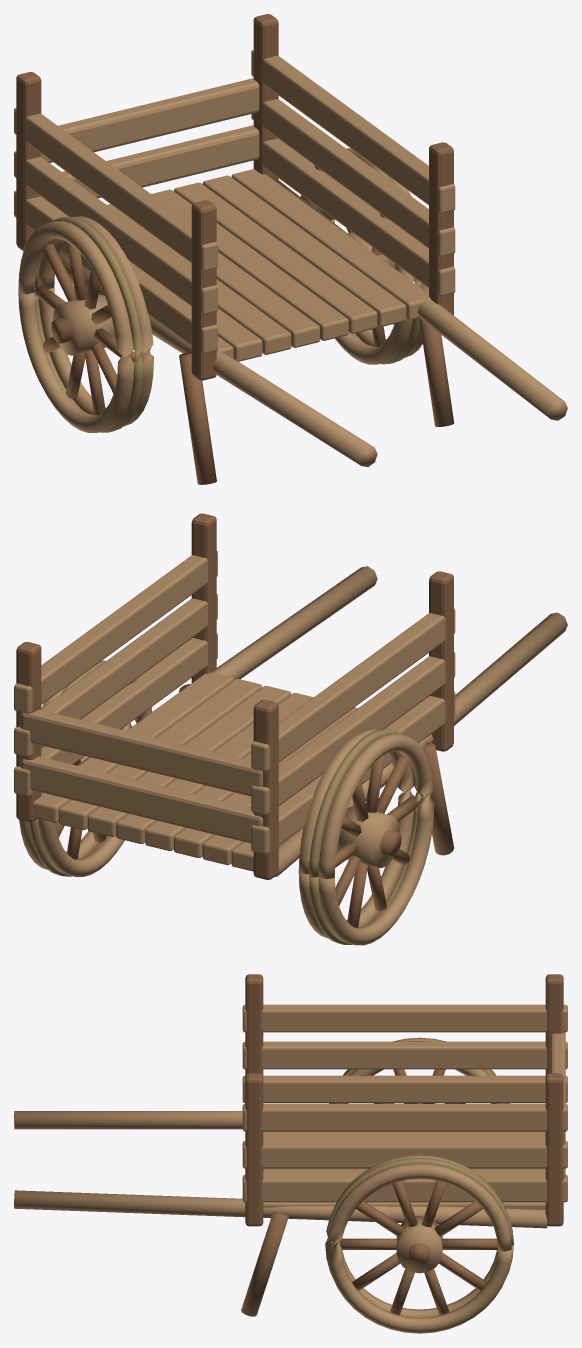
File: cargo-handcart.glb
3 renders of one model, top to bottom at view 1: azimuth 30°, elevation 25°; view 2: azimuth 150°, elevation 25°; view 3: azimuth 270°, elevation 25°, orthographic. The views are drawn at different scales.
Parts seen in each view (by area): view 1: cargo-handcart__woodlight, cargo-handcart__wood, cargo-handcart__bronze; view 2: cargo-handcart__woodlight, cargo-handcart__wood, cargo-handcart__bronze; view 3: cargo-handcart__woodlight, cargo-handcart__wood, cargo-handcart__bronze.
Part boxes in pixels (<box>): cargo-handcart__woodlight: <box>14,50,567,466</box>; cargo-handcart__wood: <box>16,14,454,484</box>; cargo-handcart__bronze: <box>34,148,421,432</box>; cargo-handcart__woodlight: <box>14,550,567,945</box>; cargo-handcart__wood: <box>16,513,454,927</box>; cargo-handcart__bronze: <box>29,660,422,944</box>; cargo-handcart__woodlight: <box>14,1004,567,1333</box>; cargo-handcart__wood: <box>241,974,563,1316</box>; cargo-handcart__bronze: <box>325,1040,513,1274</box>.
Bounding box in the file's own units: 1.88 × 1.52 × 3.12.
